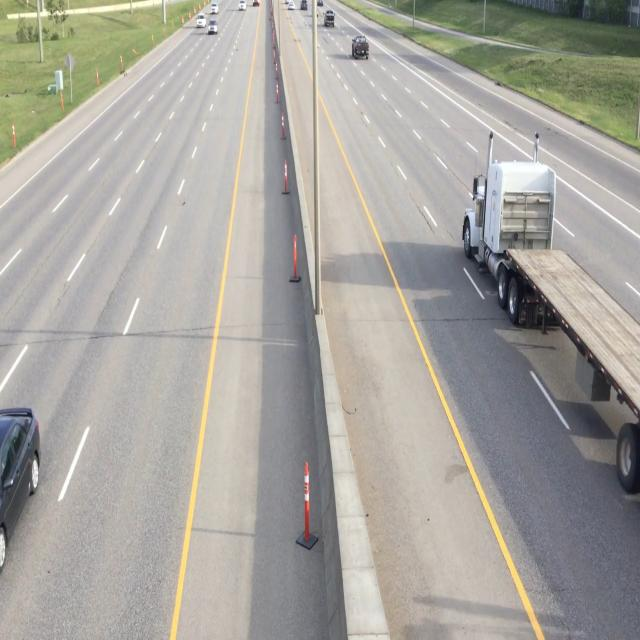Car: (464, 127, 640, 500), (350, 32, 370, 64), (322, 8, 337, 31)
